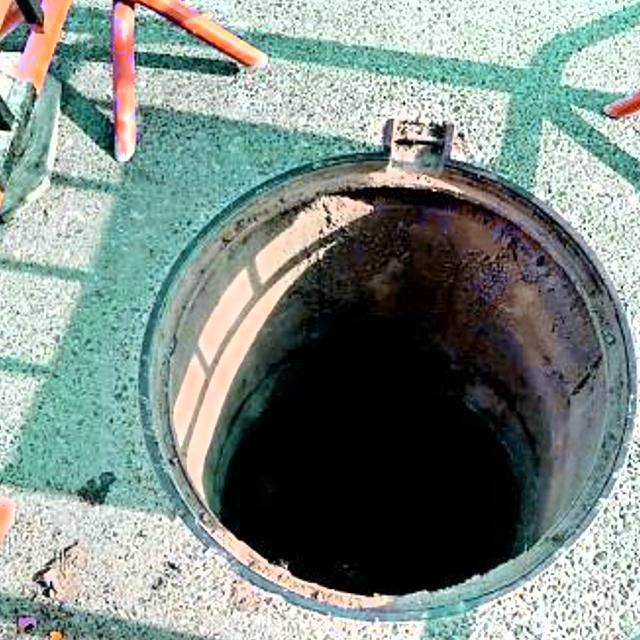lose: (124, 144, 640, 619)
